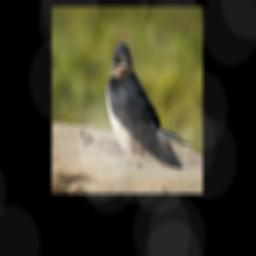Swallow: (105, 43, 194, 168)
